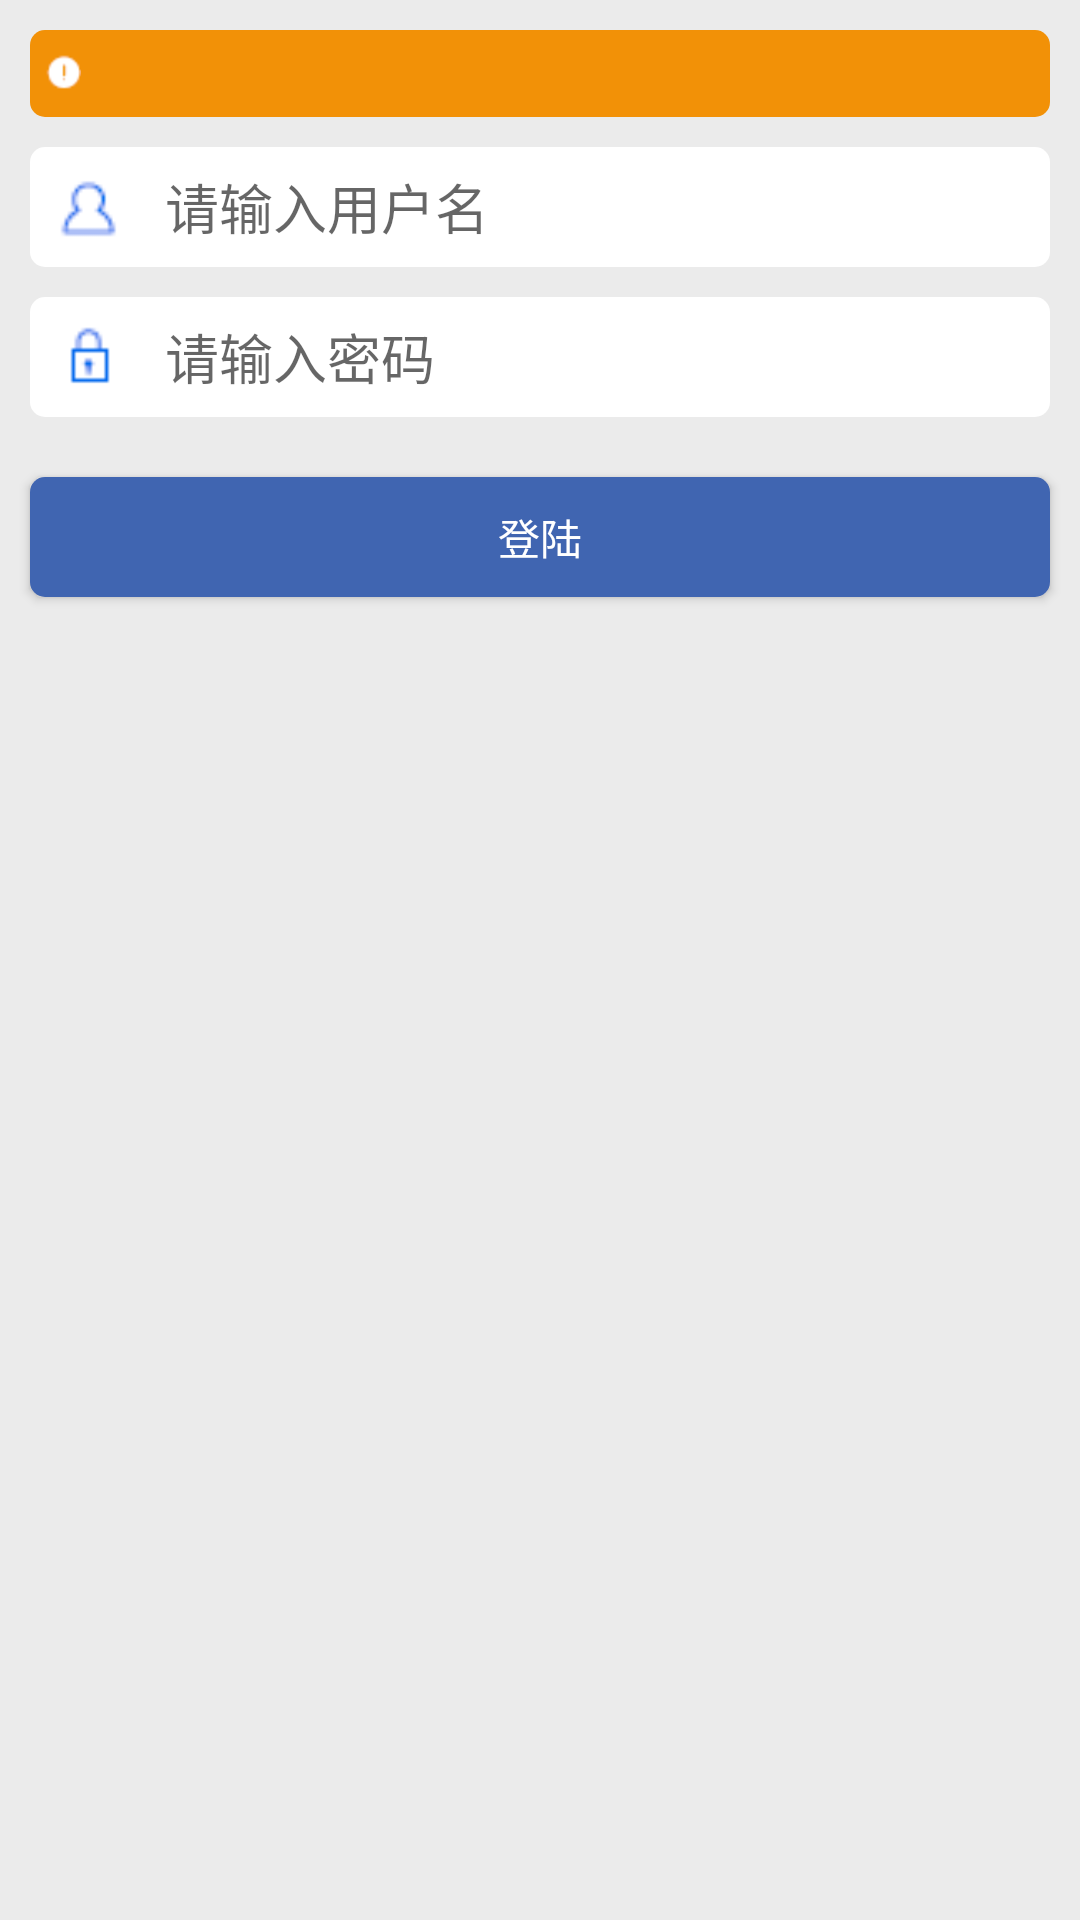

Screen size 1080x1920. Icon name, then its center in pixels as (x,y):
错误提示: (63,72)
